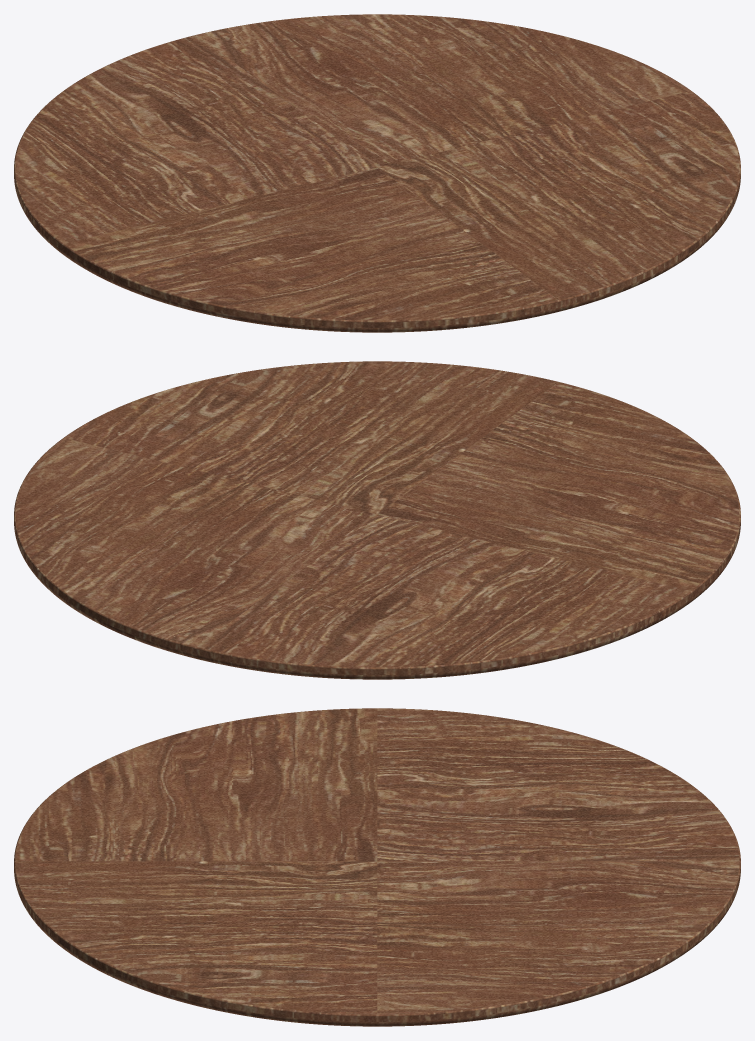
Rendered from TableTop_Cricle_Cedar.obj.
The picture shows the model from 3 angles, top to bottom: view 1: azimuth 30°, elevation 25°; view 2: azimuth 150°, elevation 25°; view 3: azimuth 270°, elevation 25°; orthographic projection.
Bounding box in the file's own units: 1400 × 59.33 × 1400.
